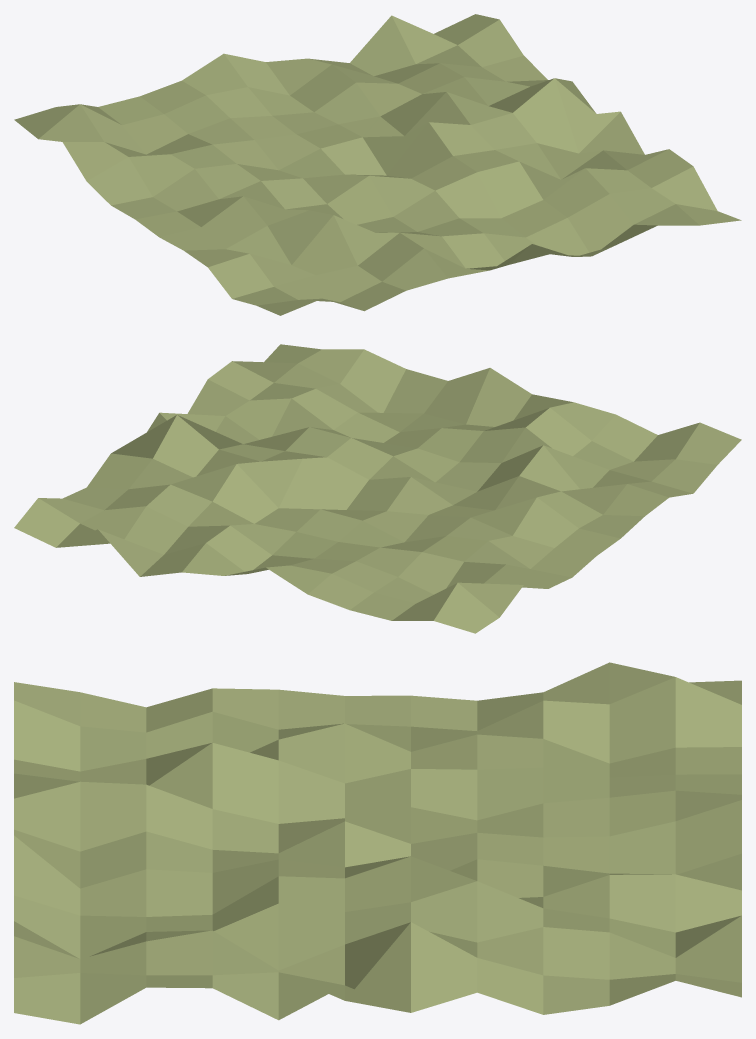
File: Island_Small.fbx
3 renders of one model, top to bottom at view 1: azimuth 30°, elevation 25°; view 2: azimuth 150°, elevation 25°; view 3: azimuth 270°, elevation 25°, orthographic. The views are drawn at different scales.
Visible parts, largest first — view 1: Island_Small; view 2: Island_Small; view 3: Island_Small.
Boxes of the visible parts, box(x1,y1,x2,y2) form: Island_Small: box(14, 14, 741, 315); Island_Small: box(14, 344, 741, 633); Island_Small: box(14, 662, 741, 1024).
Bounding box in the file's own units: 20 × 2.86 × 20.
